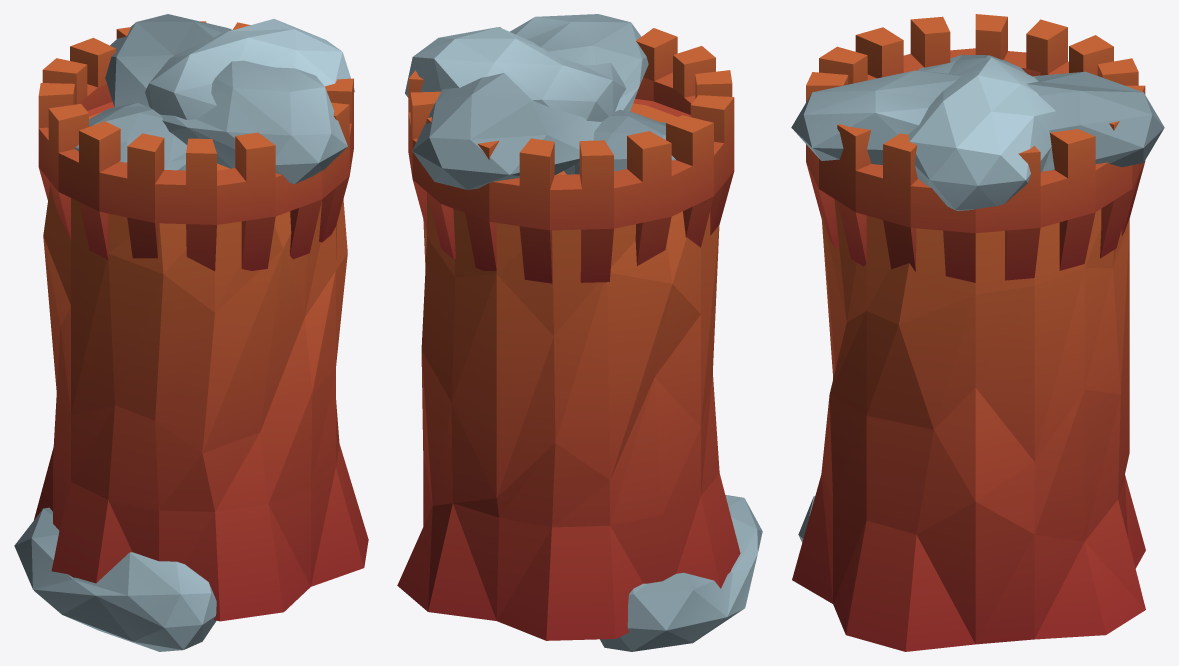
File: SM_Round_Tower.fbx
The picture shows the model from 3 angles, left to right: view 1: azimuth 30°, elevation 25°; view 2: azimuth 150°, elevation 25°; view 3: azimuth 270°, elevation 25°; orthographic projection. The views are drawn at different scales.
Parts seen in each view (by area): view 1: SM_Round_Tower; view 2: SM_Round_Tower; view 3: SM_Round_Tower.
Part boxes in pixels (x1,y1,x2,y2): SM_Round_Tower: [14, 14, 368, 651]; SM_Round_Tower: [397, 14, 762, 651]; SM_Round_Tower: [791, 14, 1164, 651].
Size of the model in its own units: 975 by 1650 by 969.
